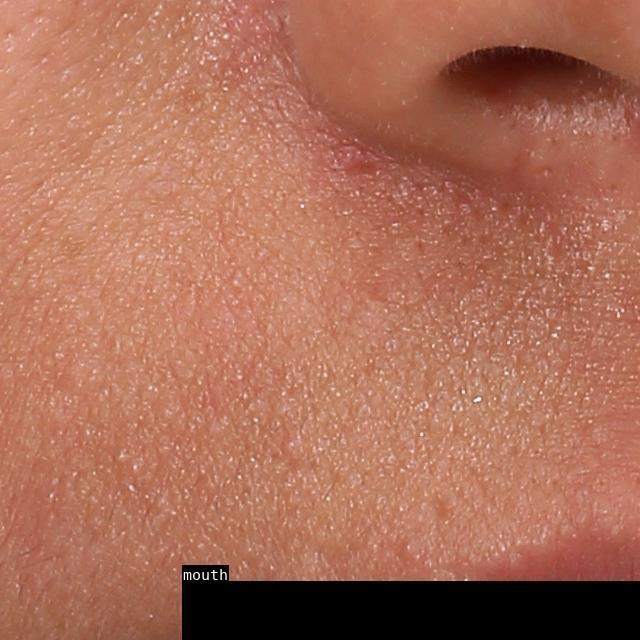comedo: (399, 540, 416, 560), (114, 446, 129, 468), (283, 436, 300, 454)
